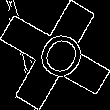O_SW: (24, 22, 86, 88)
